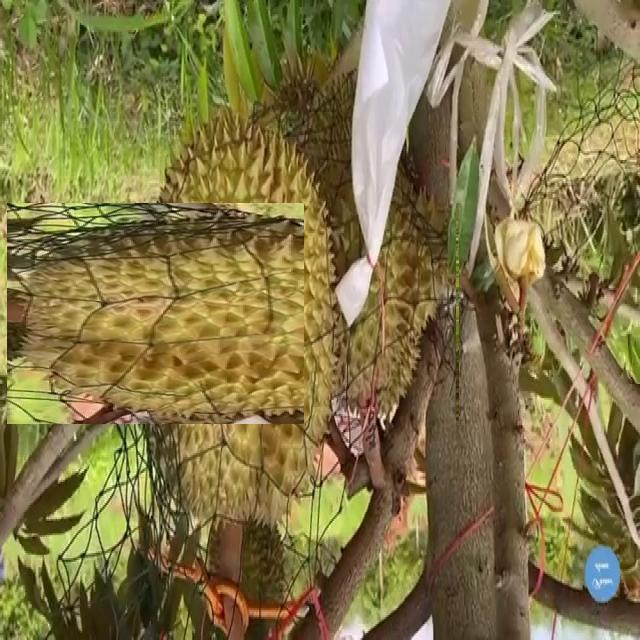durian: (64, 146, 402, 482), (304, 157, 456, 428)
